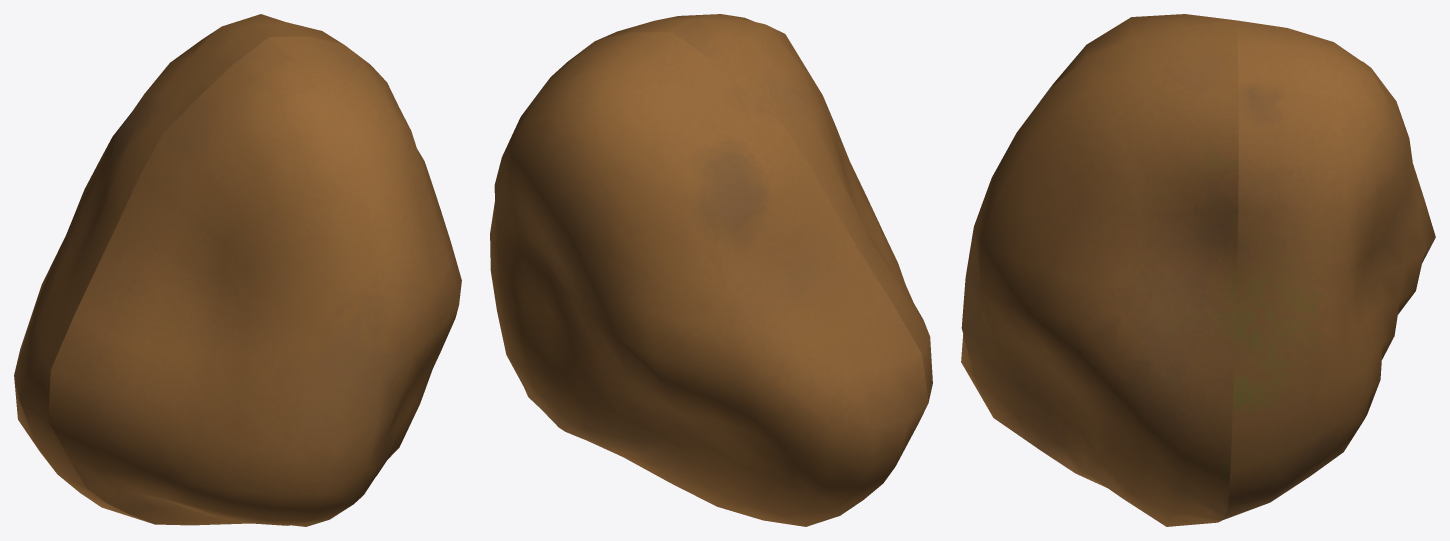
Rendered from Rock3.fbx.
3 views of the same model, side by side, from view 1: azimuth 30°, elevation 25°; view 2: azimuth 150°, elevation 25°; view 3: azimuth 270°, elevation 25° (orthographic). The views are drawn at different scales.
Visible parts, largest first — view 1: Cube.001; view 2: Cube.001; view 3: Cube.001.
Part boxes in pixels (x1,y1,x2,y2): Cube.001: (14,14,461,526); Cube.001: (490,14,932,526); Cube.001: (961,14,1435,526).
Bounding box in the file's own units: 168 × 184 × 160.
Materials: 1 (1 with a texture image).
